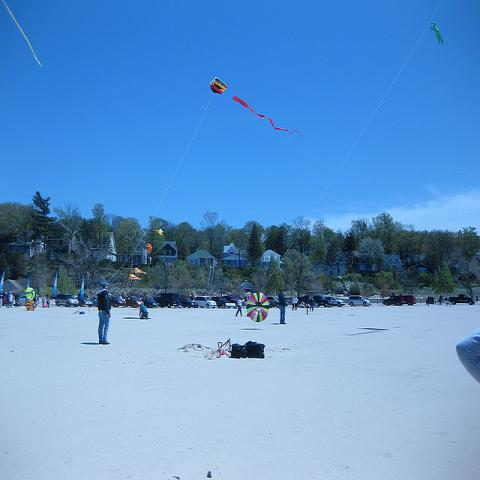car: (111, 297, 194, 308), (347, 294, 372, 308), (194, 296, 217, 308), (212, 296, 231, 309), (383, 295, 403, 306), (400, 295, 417, 306), (313, 295, 328, 307), (224, 295, 239, 306), (266, 296, 279, 308), (325, 296, 344, 304), (86, 300, 99, 308), (426, 296, 434, 306)
truck: (154, 292, 179, 308), (448, 292, 476, 306), (212, 295, 226, 308)
